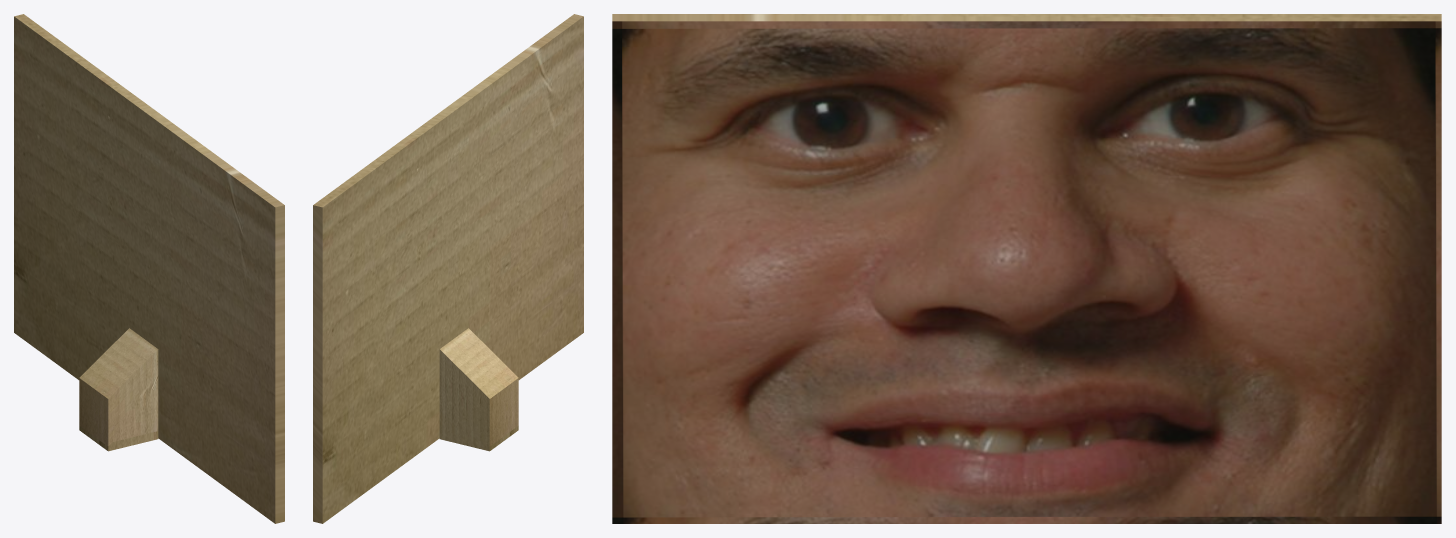
The model's file is bodyisreggie.fbx.
3 views of the same model, side by side, from view 1: azimuth 30°, elevation 25°; view 2: azimuth 150°, elevation 25°; view 3: azimuth 270°, elevation 25° (orthographic). The views are drawn at different scales.
Visible parts, largest first — view 1: polySurface1; view 2: polySurface1; view 3: polySurface1.
Boxes of the visible parts, left/top/right/bottom form: polySurface1: left=14, top=14, right=284, bottom=523; polySurface1: left=313, top=14, right=583, bottom=523; polySurface1: left=612, top=14, right=1441, bottom=523.
Size of the model in its own units: 0.8432 by 4.21 by 6.3.
